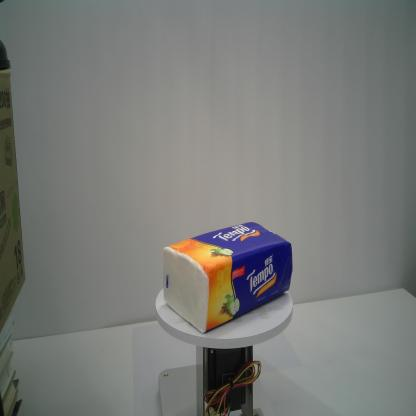Tissue: (162, 221, 294, 336)
